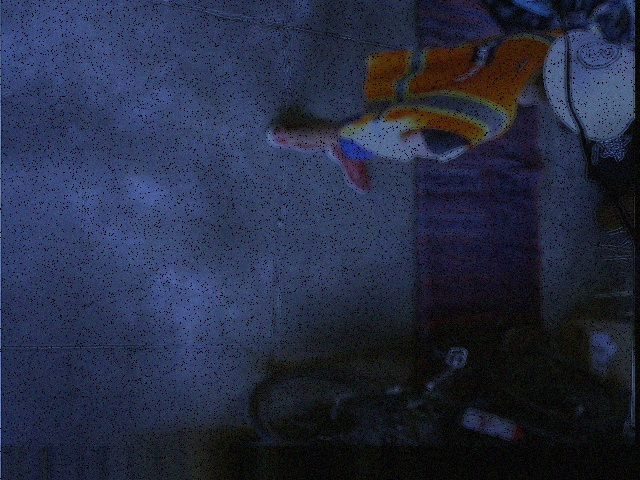three: (577, 41, 620, 67)
